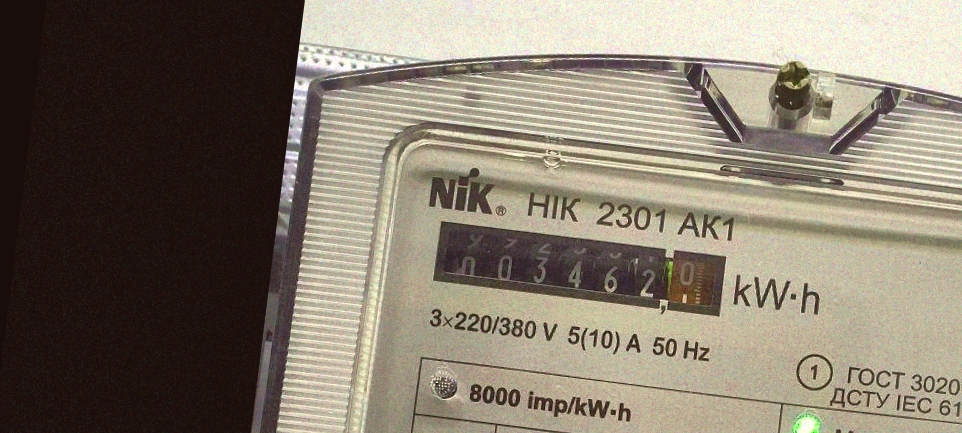0: (494, 251, 515, 282), (676, 259, 697, 289), (456, 252, 478, 277)
2: (637, 266, 658, 300)
3: (528, 253, 550, 287)
4: (565, 257, 586, 291)
6: (599, 261, 623, 297)
9: (462, 231, 484, 252)
screen: (418, 207, 739, 336)
